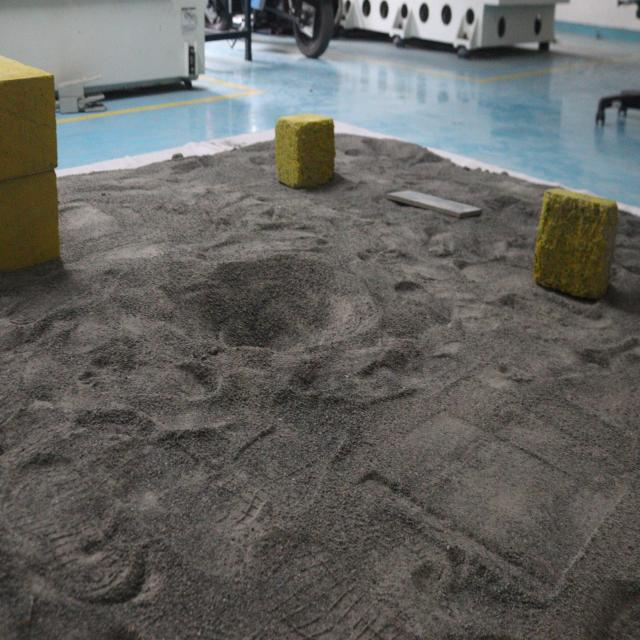box: (0, 48, 66, 281), (540, 176, 617, 304), (273, 109, 340, 191)
crater: (183, 252, 384, 374)
